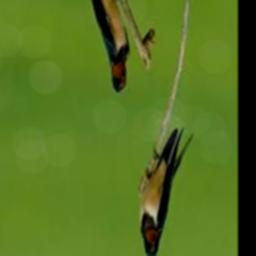Swallow: (139, 127, 193, 256), (68, 0, 130, 94)
